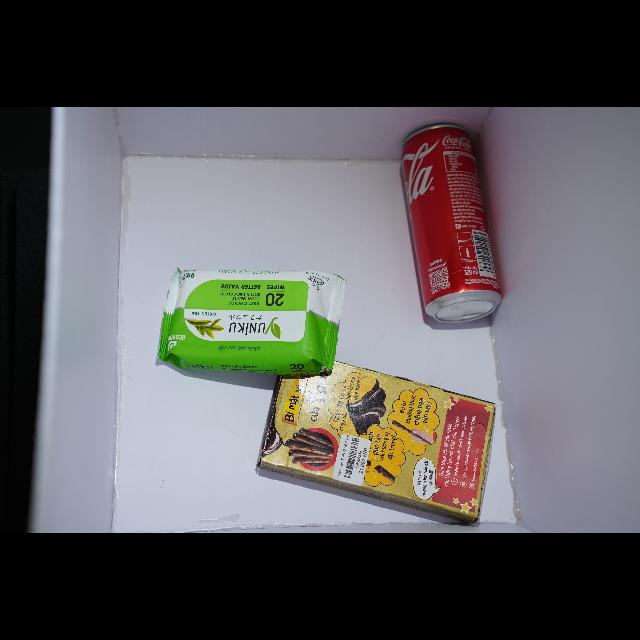banh_toppo_socola: (258, 362, 495, 522)
coca_cola: (402, 124, 501, 323)
khan_giay: (158, 268, 345, 375)
